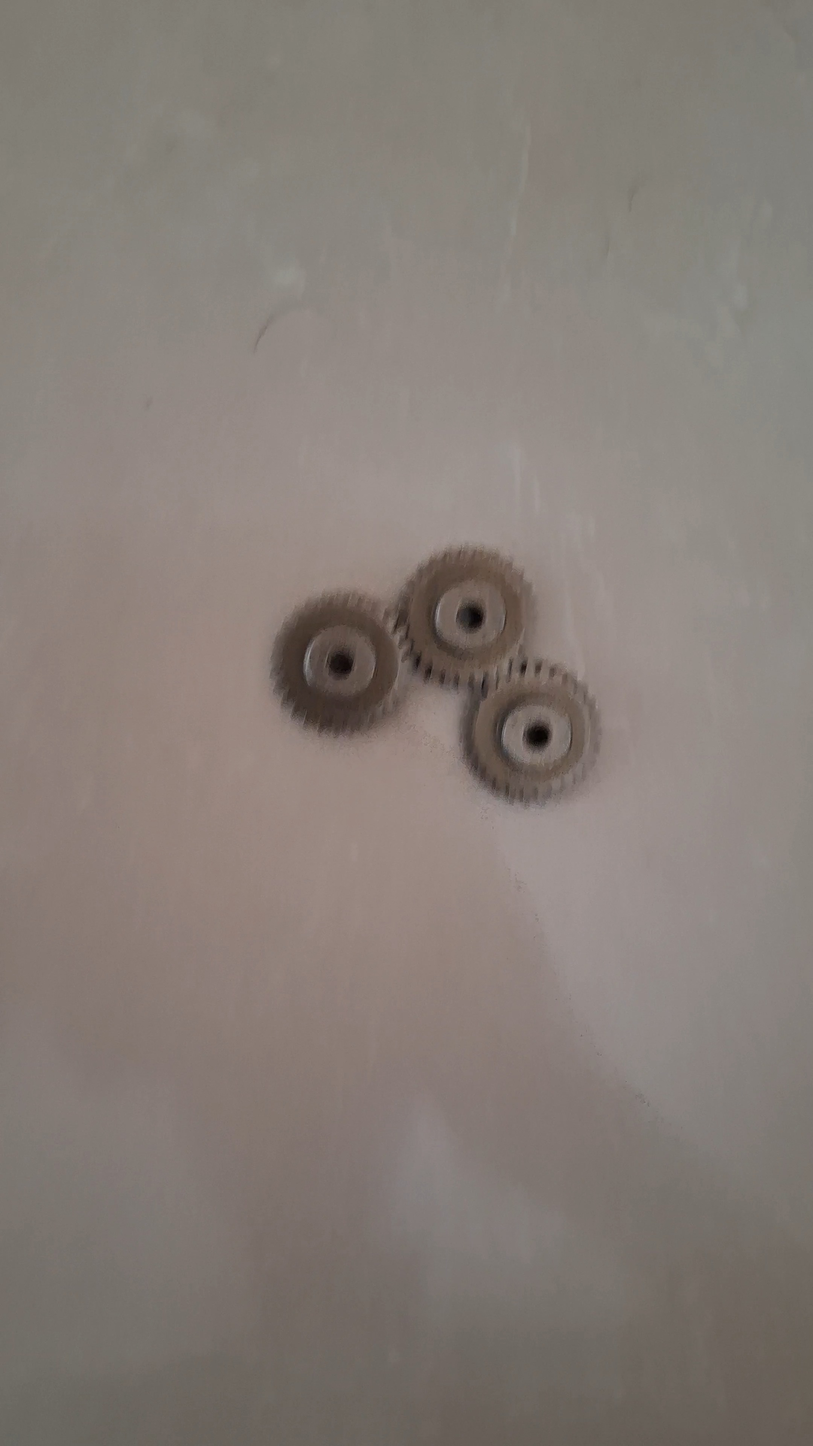spur gear: (466, 659, 599, 802), (272, 593, 406, 732), (399, 547, 532, 686)
